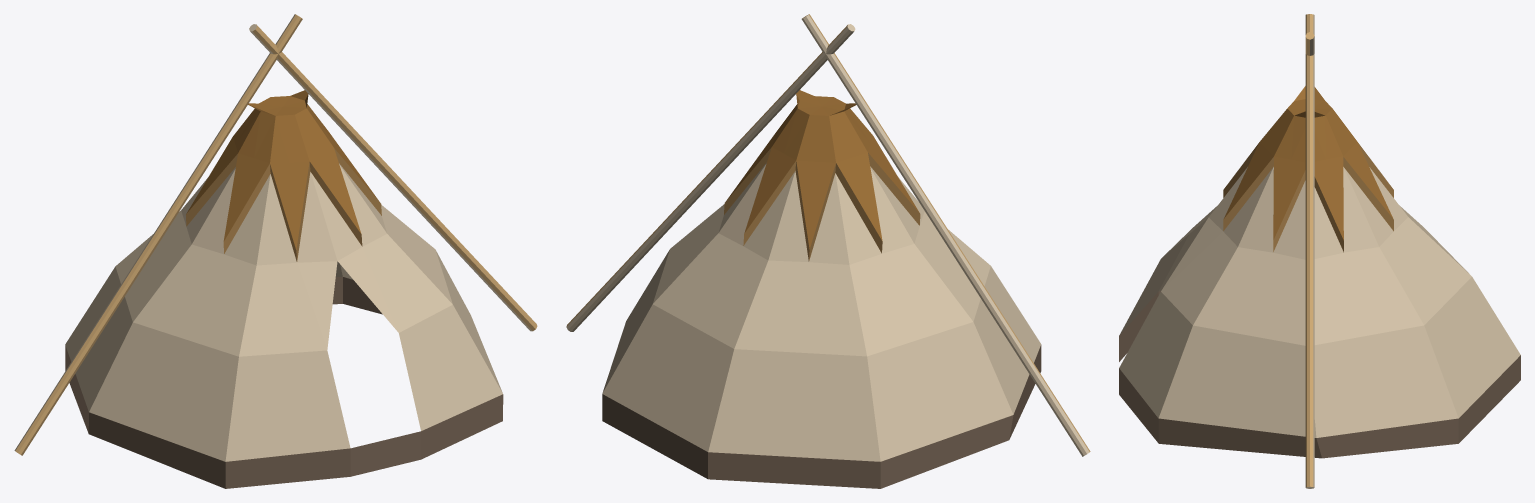
The model's file is Tent_M.fbx.
The picture shows the model from 3 angles, left to right: view 1: azimuth 30°, elevation 25°; view 2: azimuth 150°, elevation 25°; view 3: azimuth 270°, elevation 25°; orthographic projection. The views are drawn at different scales.
Visible parts, largest first — view 1: Tent_M; view 2: Tent_M; view 3: Tent_M.
Part boxes in pixels (<box>): Tent_M: <box>14,14,537,488</box>; Tent_M: <box>566,14,1090,488</box>; Tent_M: <box>1119,14,1520,488</box>.
Bounding box in the file's own units: 270 × 187 × 192.
